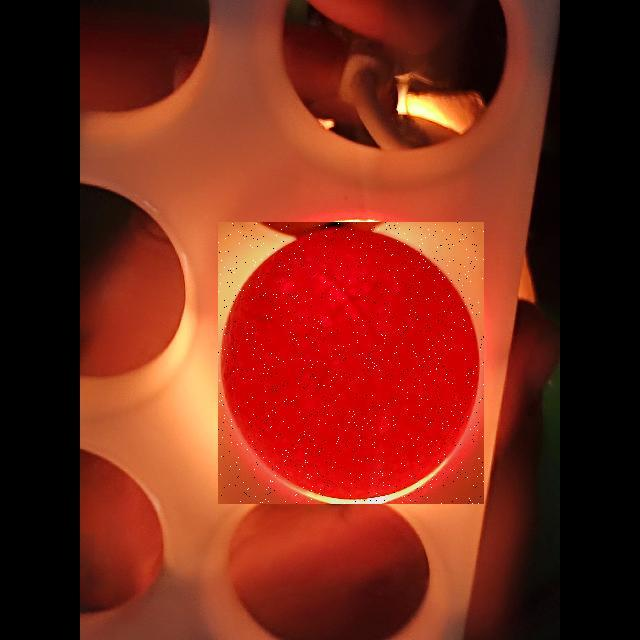Infertile: (218, 222, 484, 504)
